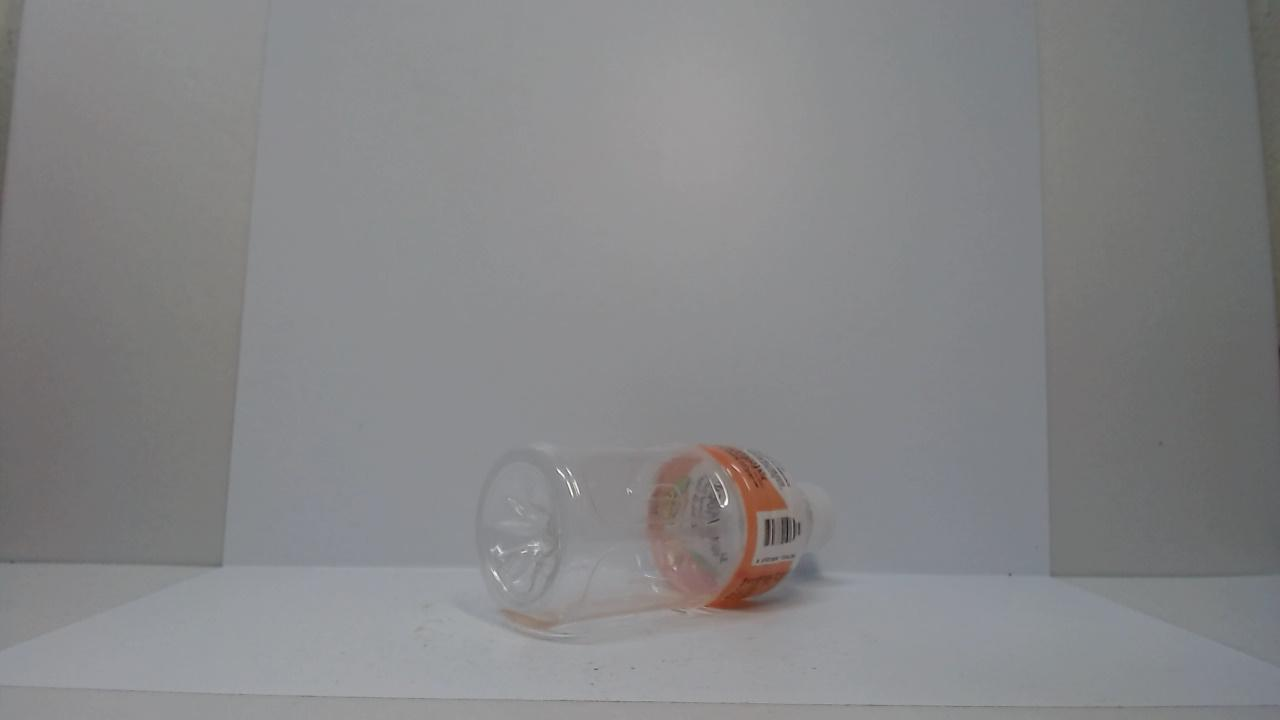bottle: (447, 425, 859, 626)
